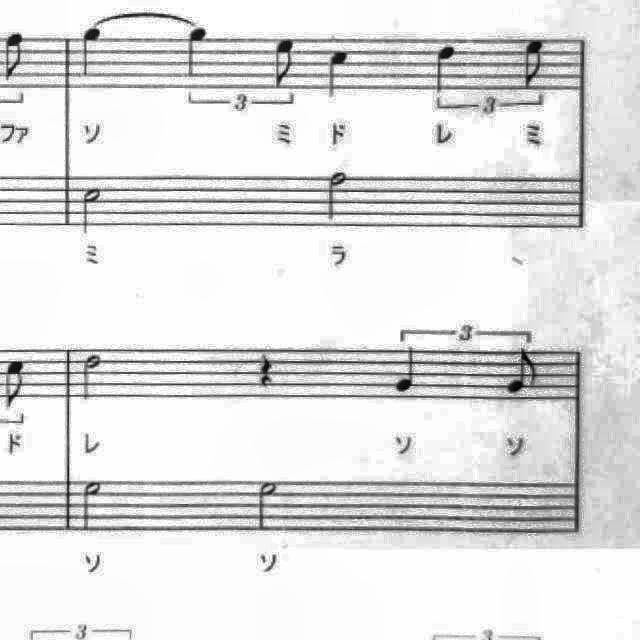Eighth-note: (502, 345, 542, 399), (266, 34, 302, 94), (516, 34, 552, 94), (0, 353, 32, 415), (0, 26, 32, 85)
Half-note: (322, 165, 358, 229), (252, 472, 286, 536), (73, 182, 109, 240), (78, 474, 110, 538), (74, 348, 106, 404)
Quarter-note: (318, 43, 356, 105), (428, 41, 464, 104), (180, 21, 216, 84), (75, 22, 112, 82), (390, 342, 428, 398)
Quarter-rest: (253, 344, 283, 392)
